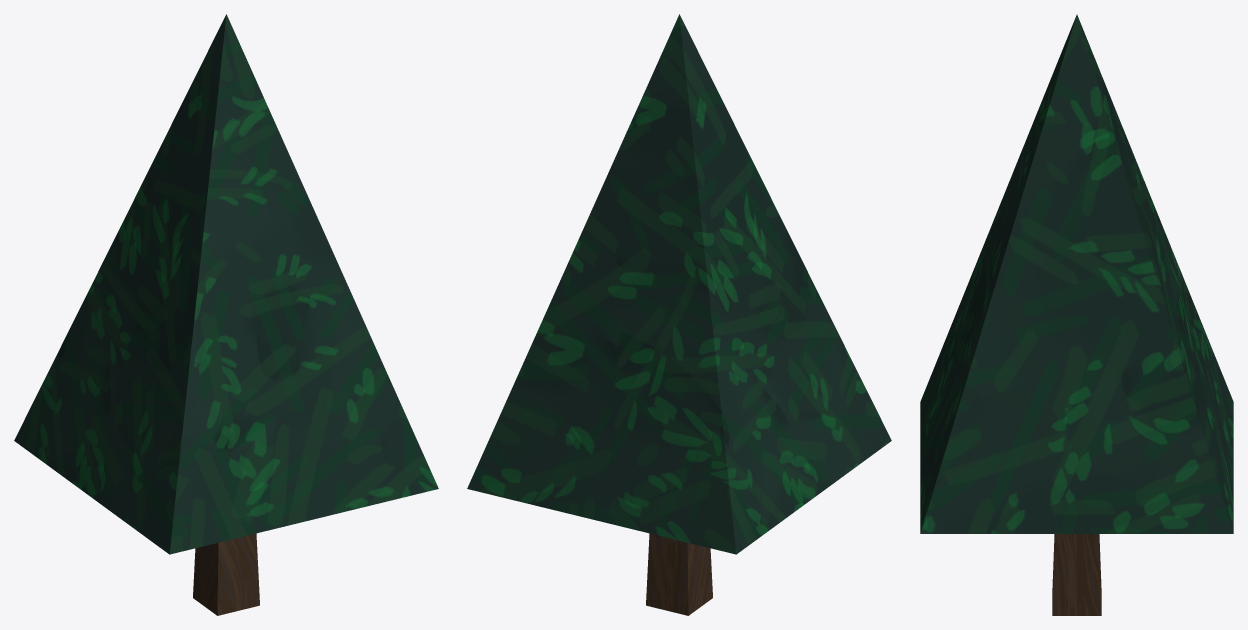
File: C_Tree_small_lowest_poly.fbx
The picture shows the model from 3 angles, left to right: view 1: azimuth 30°, elevation 25°; view 2: azimuth 150°, elevation 25°; view 3: azimuth 270°, elevation 25°; orthographic projection.
Parts seen in each view (by area): view 1: Cube; view 2: Cube; view 3: Cube.
Boxes of the visible parts, left/top/right/bottom form: Cube: left=14, top=14, right=438, bottom=615; Cube: left=467, top=14, right=891, bottom=615; Cube: left=920, top=14, right=1233, bottom=615.
Bounding box in the file's own units: 3.75 × 7.82 × 3.75.
